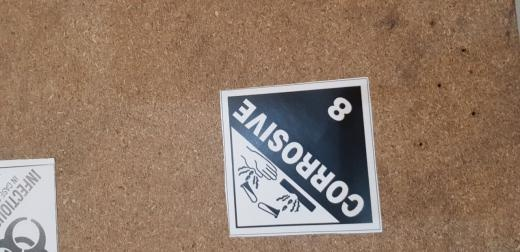Corrosive: (220, 77, 382, 237)
